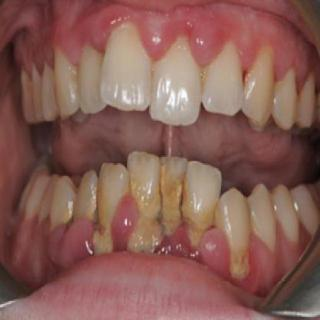Gum Swelling: (55, 10, 262, 73), (152, 226, 264, 289), (42, 222, 93, 269), (111, 196, 140, 253)
calculus: (130, 161, 165, 253), (182, 180, 222, 252), (92, 178, 128, 257), (157, 161, 191, 243), (220, 240, 256, 286), (230, 56, 264, 94), (197, 62, 219, 101), (63, 198, 83, 236), (23, 73, 39, 107), (268, 77, 286, 106), (64, 65, 86, 88)
maligned: (98, 19, 155, 117), (123, 147, 163, 249), (184, 156, 220, 254), (95, 157, 133, 245), (157, 157, 194, 245), (74, 39, 116, 116)
